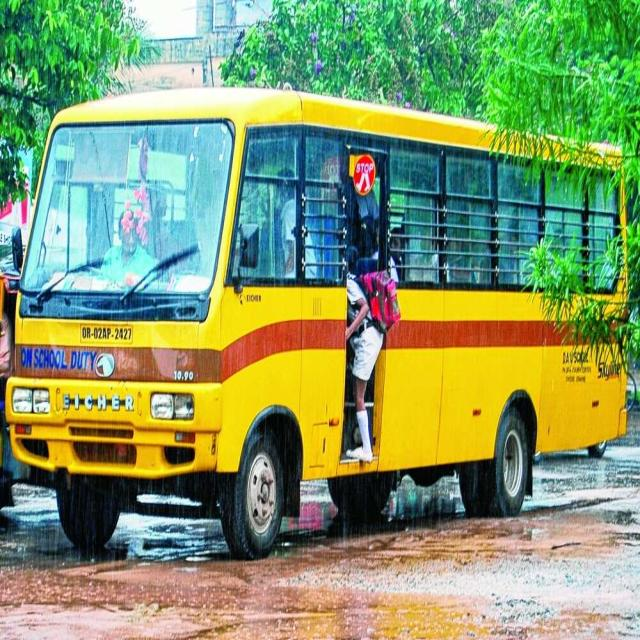bus: (6, 89, 628, 560)
